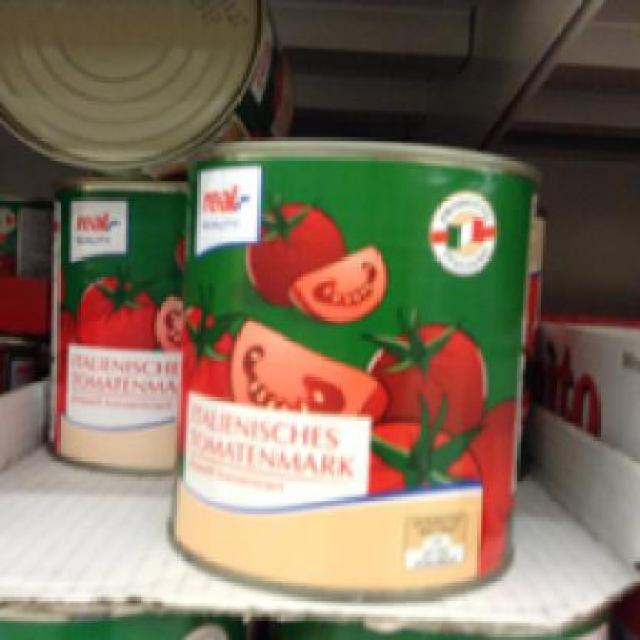Tomato Sauce: (160, 134, 537, 600)
